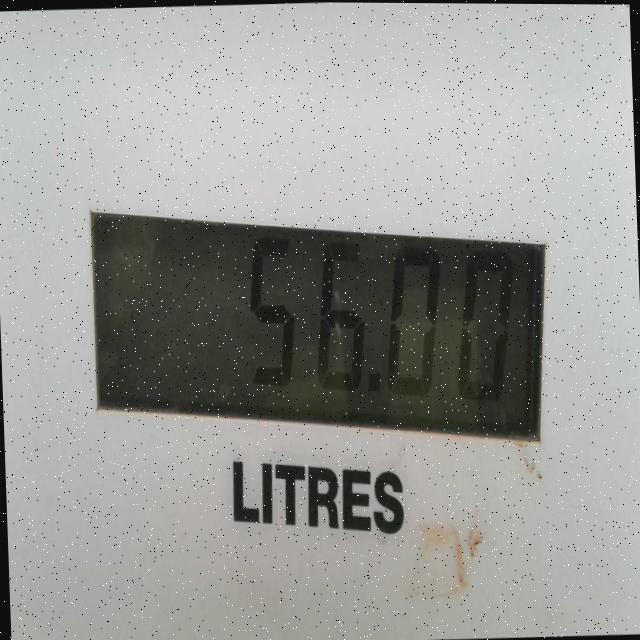.: (370, 367, 380, 388)
0: (454, 249, 514, 401), (386, 244, 441, 397)
5: (250, 232, 298, 386)
6: (318, 234, 368, 389)
